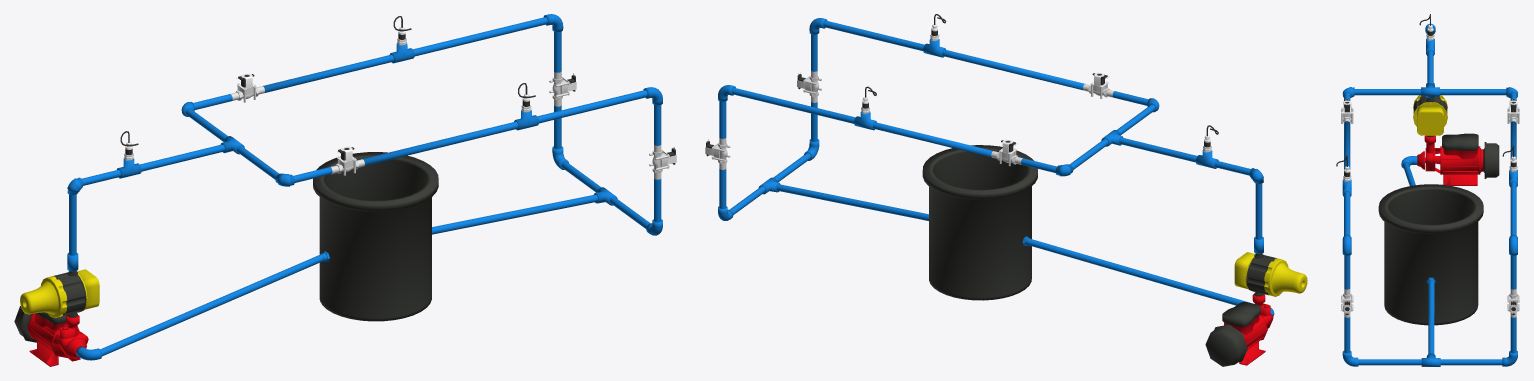
File: silano4.glb
3 renders of one model, left to right at view 1: azimuth 30°, elevation 25°; view 2: azimuth 150°, elevation 25°; view 3: azimuth 270°, elevation 25°, orthographic. The views are drawn at different scales.
Parts seen in each view (by area): view 1: Circle.004, triconnect.023, Circle, triconnect.043, triconnect.039, triconnect.008, triconnect.001, triconnect.002, triconnect.006, triconnect.013, triconnect.035, triconnect.016 (+7 smaller); view 2: Circle.004, Circle, triconnect.023, triconnect.043, triconnect.039, triconnect.008, triconnect.001, triconnect.002, triconnect.006, triconnect.013, triconnect.025, triconnect.035 (+5 smaller); view 3: Circle.004, Circle, triconnect.023, triconnect.013, triconnect.035, triconnect.039, triconnect.025, triconnect.027, triconnect.022, triconnect.001, triconnect.008, triconnect.006 (+13 smaller).
Boxes of the visible parts, <box> form: Circle.004: <box>313,152,438,321</box>; triconnect.023: <box>20,269,99,317</box>; Circle: <box>14,306,88,366</box>; triconnect.043: <box>100,254,323,356</box>; triconnect.039: <box>432,194,597,234</box>; triconnect.008: <box>362,121,518,165</box>; triconnect.001: <box>413,17,547,56</box>; triconnect.002: <box>263,54,393,92</box>; triconnect.006: <box>537,90,647,123</box>; triconnect.013: <box>186,108,279,179</box>; triconnect.035: <box>561,161,650,228</box>; triconnect.016: <box>140,144,224,171</box>; Circle.004: <box>922,145,1037,300</box>; Circle: <box>1205,294,1273,366</box>; triconnect.023: <box>1234,252,1307,296</box>; triconnect.043: <box>1028,239,1252,305</box>; triconnect.039: <box>776,184,928,220</box>; triconnect.008: <box>942,49,1084,90</box>; triconnect.001: <box>732,87,855,123</box>; triconnect.002: <box>873,122,992,157</box>; triconnect.006: <box>823,20,924,50</box>; triconnect.013: <box>1069,104,1155,169</box>; triconnect.025: <box>719,101,726,208</box>; triconnect.035: <box>729,153,810,214</box>; Circle.004: <box>1378,184,1483,325</box>; Circle: <box>1417,133,1499,185</box>; triconnect.023: <box>1413,95,1447,136</box>; triconnect.013: <box>1354,89,1506,95</box>; triconnect.035: <box>1358,359,1502,365</box>; triconnect.039: <box>1428,280,1434,353</box>; triconnect.025: <box>1510,255,1516,353</box>; triconnect.027: <box>1344,255,1350,353</box>; triconnect.022: <box>1336,14,1517,181</box>; triconnect.001: <box>1510,181,1516,235</box>; triconnect.008: <box>1344,121,1350,169</box>; triconnect.006: <box>1344,191,1350,235</box>.
Size of the model in its own units: 83.24 by 30.19 by 26.4.
